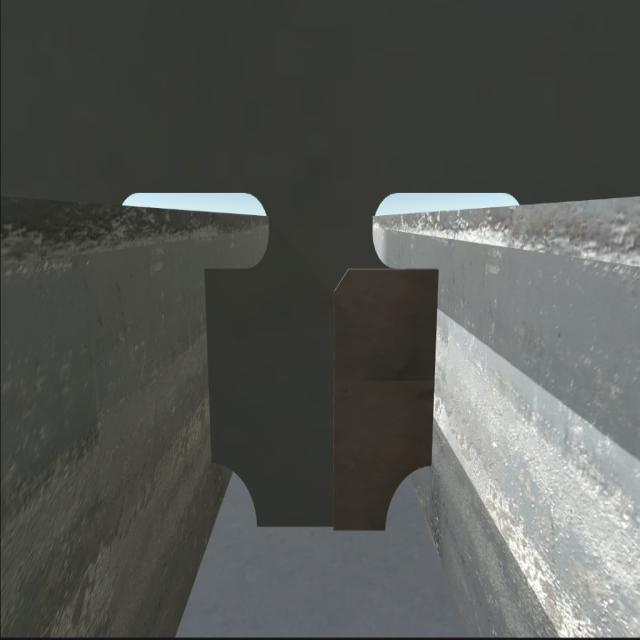fillet_hole: (380, 464, 432, 531), (213, 466, 261, 530)
fillet_yong_jeop_jang: (252, 510, 391, 542)
longi_yong_jeop_jang: (202, 268, 222, 477), (428, 261, 442, 468)
plate_CP03: (330, 265, 440, 539)
